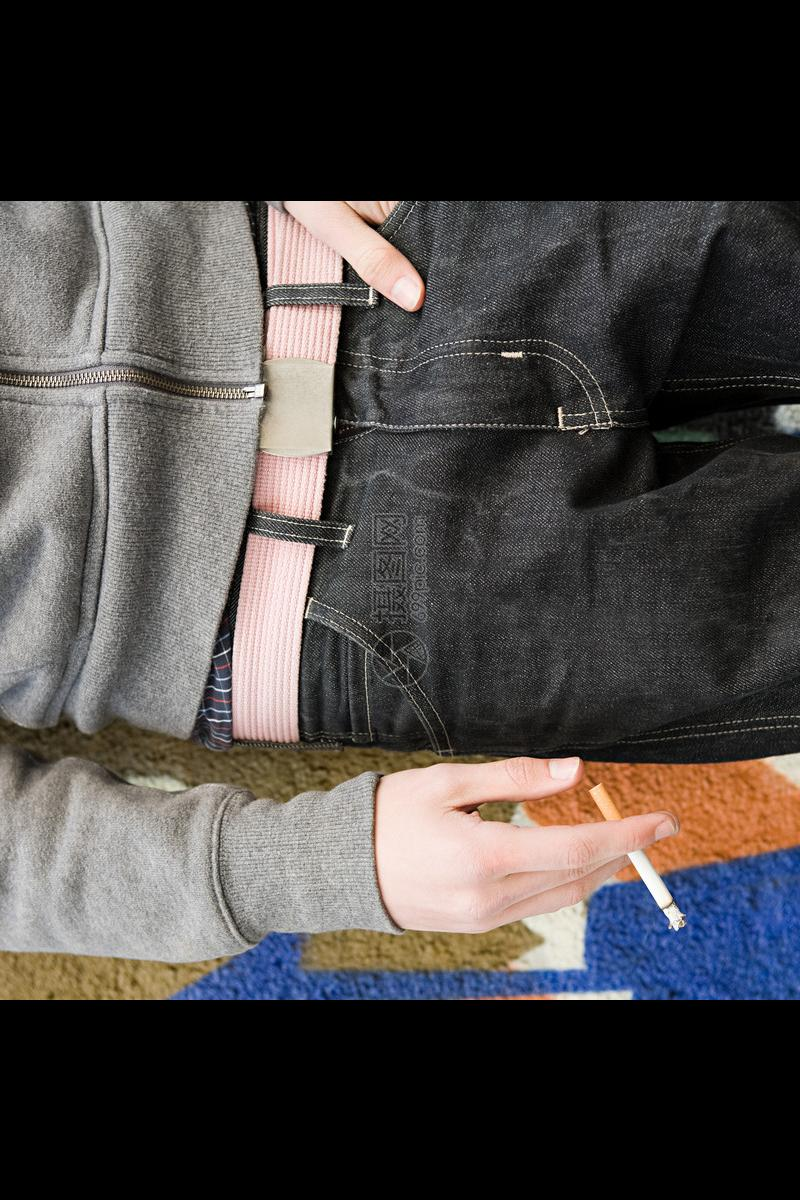Cigarette: (590, 780, 690, 928)
